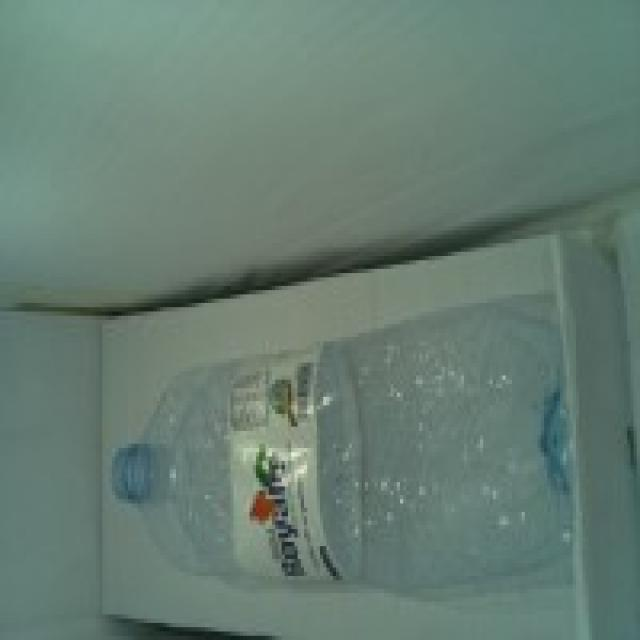blue: (112, 310, 575, 595)
